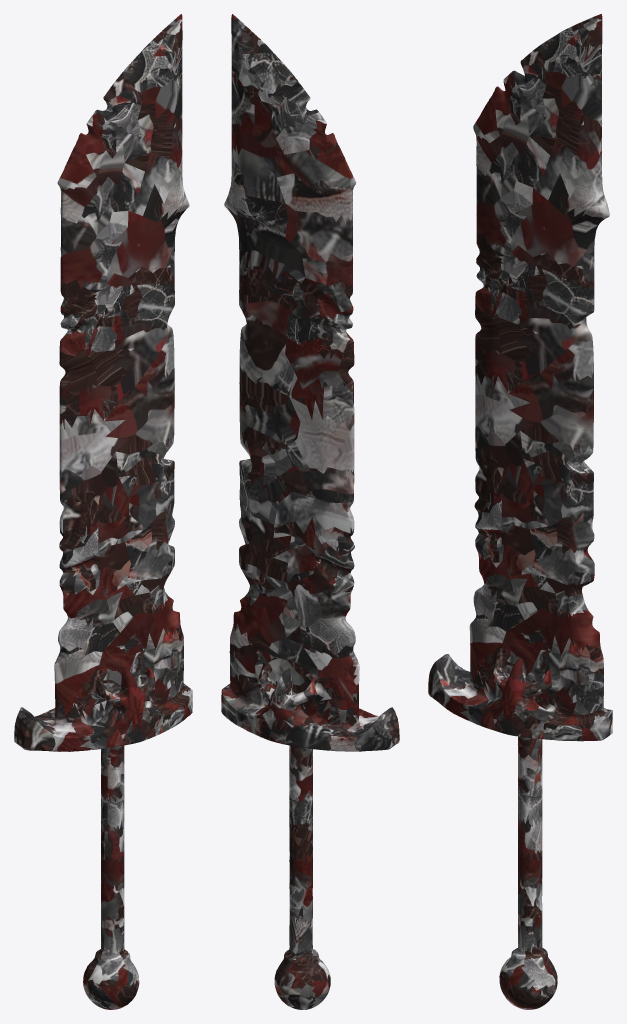
The picture shows the model from 3 angles, left to right: view 1: azimuth 30°, elevation 25°; view 2: azimuth 150°, elevation 25°; view 3: azimuth 330°, elevation 25°; orthographic projection. The views are drawn at different scales.
Visible parts, largest first — view 1: Mesh_0; view 2: Mesh_0; view 3: Mesh_0.
Part boxes in pixels (bbox=[...]): Mesh_0: bbox=[14, 14, 192, 1009]; Mesh_0: bbox=[221, 14, 399, 1009]; Mesh_0: bbox=[428, 14, 612, 1009].
Bounding box in the file's own units: 34.67 × 190 × 16.15.
